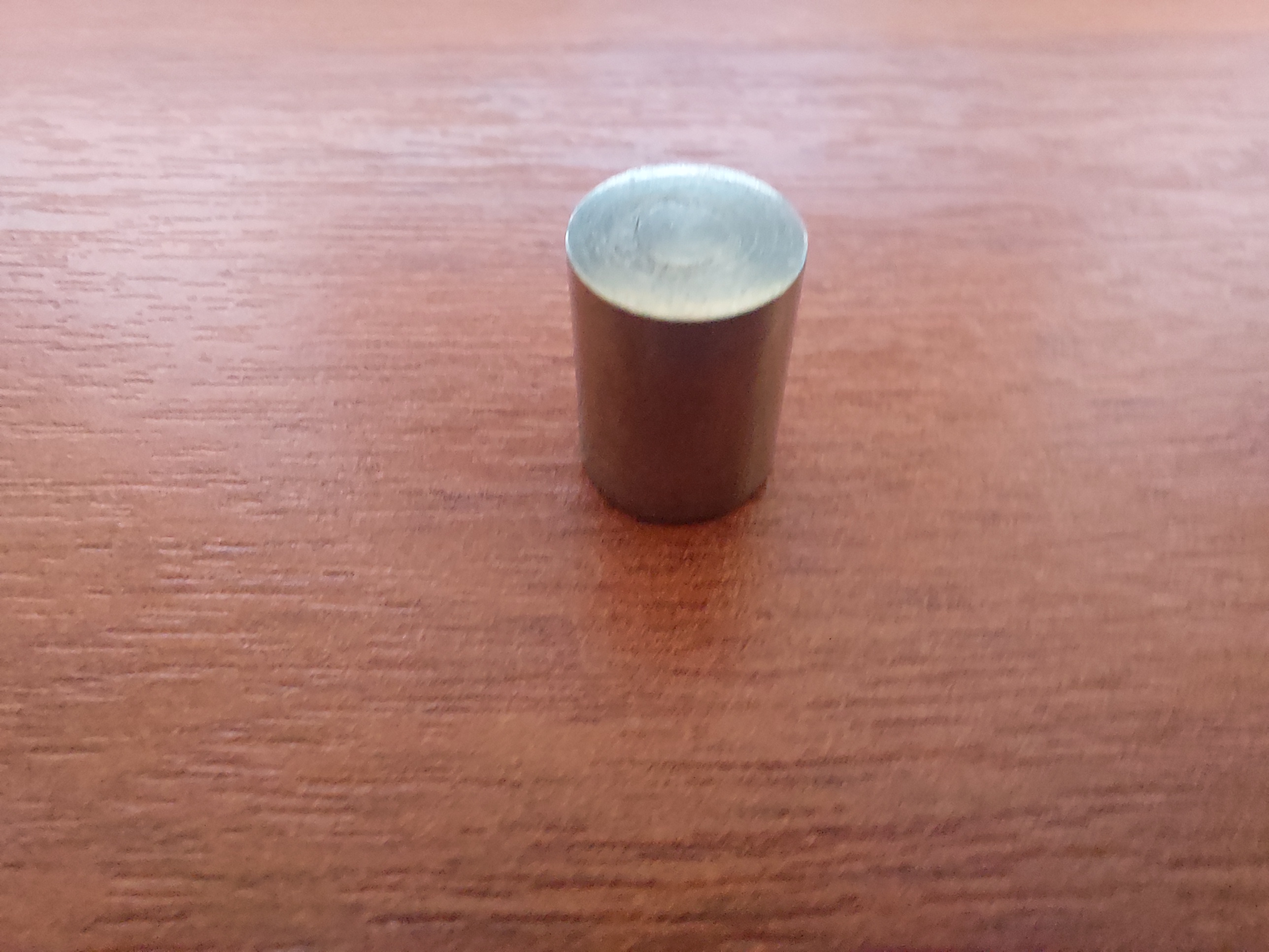tablet: (554, 167, 832, 538)
